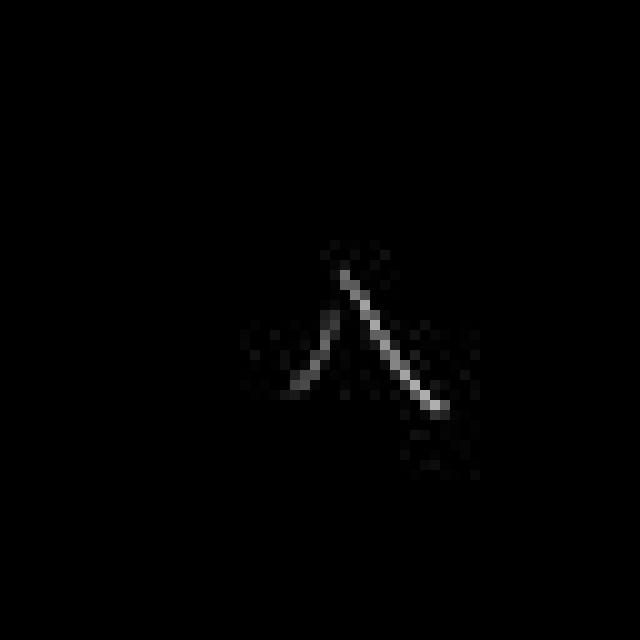8 -eight-: (276, 255, 457, 434)
